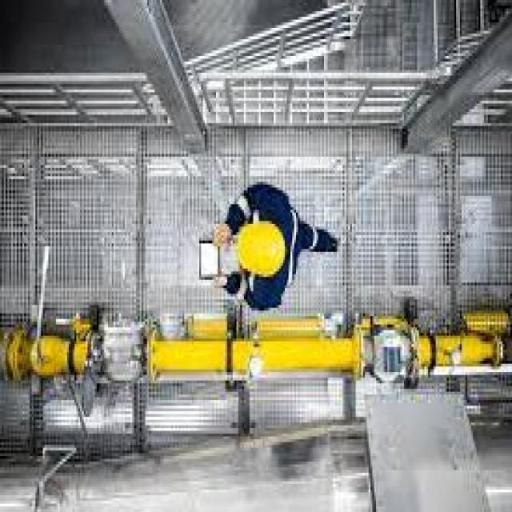helmet: (230, 212, 292, 286)
